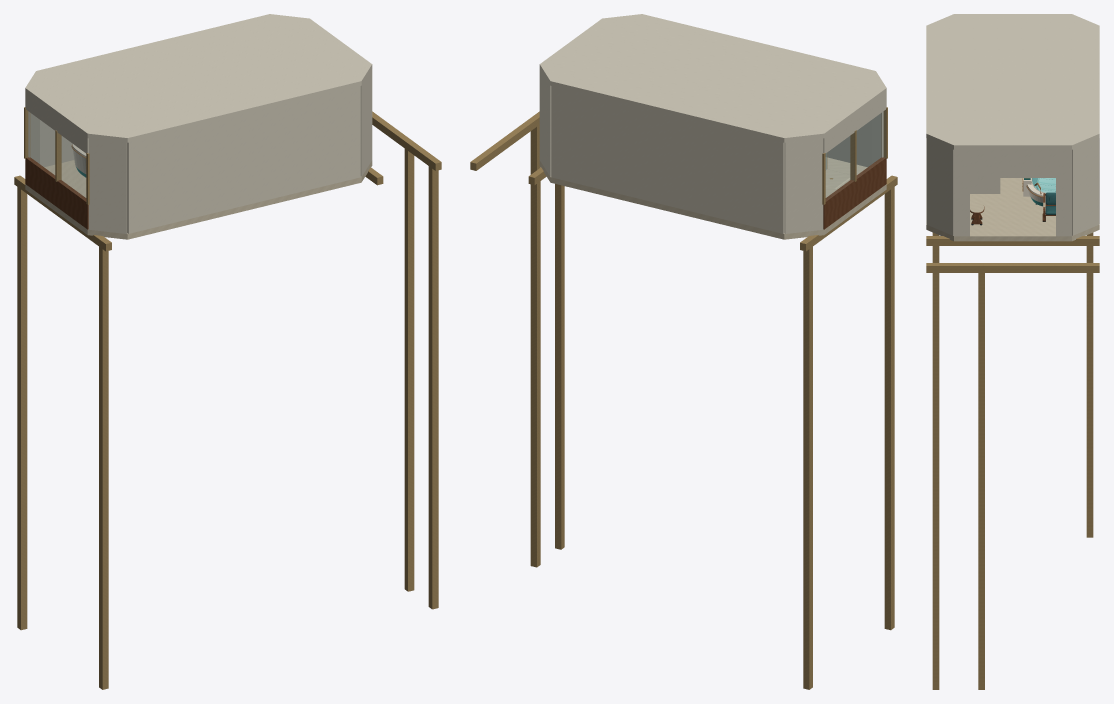
The model's file is D04_STARBOARD_CENTRAL_HOME_974_r001.glb.
3 views of the same model, side by side, from view 1: azimuth 30°, elevation 25°; view 2: azimuth 150°, elevation 25°; view 3: azimuth 270°, elevation 25° (orthographic). The views are drawn at different scales.
Visible parts, largest first — view 1: SC974_D04H970_Roof, SC974_D04H970_Shell_7, SC974_SF_D04H964_Pier_13, SC974_SF_D04H964_Pier_16, SC974_SF_D04H964_Pier_14, SC974_SF_D04H964_Pier_15, SC974_D04H970_Shell_6, SC974_D04H970_Floor, SC974_D04H970_GardenGlass, SC974_D04H970_GardenDado, SC974_D04H970_Shell_0, SC974_D04H970_GardenHead (+2 smaller); view 2: SC974_D04H970_Roof, SC974_D04H970_Shell_3, SC974_SF_D04H964_Pier_15, SC974_SF_D04H964_Pier_14, SC974_SF_D04H964_Pier_16, SC974_SF_D04H964_Pier_13, SC974_D04H970_Shell_4, SC974_D04H970_Floor, SC974_D04H970_GardenGlass, SC974_D04H970_GardenDado, SC974_D04H970_Shell_2, SC974_D04H970_GardenHead (+2 smaller); view 3: SC974_D04H970_Roof, SC974_D04H970_Floor, SC974_SF_D04H964_Pier_13, SC974_SF_D04H964_Pier_14, SC974_D04H970_EntryHeader, SC974_D04H970_Shell_0, SC974_D04H970_Shell_2, SC974_SF_D04H964_Pier_16, SC974_SF_D04H964_ClearSupportLong, SC974_D04H970_EntryWall_0, SC974_D04H970_EntryWall_1, SC974_SF_D04H964_Long_-41.650000000000006 (+2 smaller).
Part boxes in pixels (box(x1,y1,x2,y2)): SC974_D04H970_Roof: box(25, 14, 372, 142); SC974_D04H970_Shell_7: box(127, 86, 360, 233); SC974_SF_D04H964_Pier_13: box(428, 157, 438, 609); SC974_SF_D04H964_Pier_16: box(17, 178, 27, 630); SC974_SF_D04H964_Pier_14: box(404, 139, 414, 591); SC974_SF_D04H964_Pier_15: box(99, 237, 108, 689); SC974_D04H970_Shell_6: box(88, 138, 127, 233); SC974_D04H970_Floor: box(25, 160, 372, 239); SC974_D04H970_GardenGlass: box(27, 113, 85, 197); SC974_D04H970_GardenDado: box(25, 157, 88, 229); SC974_D04H970_Shell_0: box(360, 69, 371, 176); SC974_D04H970_GardenHead: box(25, 93, 88, 153); SC974_D04H970_Roof: box(539, 14, 886, 142); SC974_D04H970_Shell_3: box(551, 86, 784, 233); SC974_SF_D04H964_Pier_15: box(884, 178, 894, 630); SC974_SF_D04H964_Pier_14: box(530, 115, 540, 567); SC974_SF_D04H964_Pier_16: box(803, 237, 812, 689); SC974_SF_D04H964_Pier_13: box(555, 184, 564, 549); SC974_D04H970_Shell_4: box(784, 138, 823, 233); SC974_D04H970_Floor: box(539, 157, 886, 239); SC974_D04H970_GardenGlass: box(826, 113, 881, 199); SC974_D04H970_GardenDado: box(823, 157, 886, 229); SC974_D04H970_Shell_2: box(540, 69, 551, 176); SC974_D04H970_GardenHead: box(823, 93, 886, 153); SC974_D04H970_Roof: box(926, 14, 1099, 149); SC974_D04H970_Floor: box(926, 178, 1099, 241); SC974_SF_D04H964_Pier_13: box(932, 263, 939, 689); SC974_SF_D04H964_Pier_14: box(978, 263, 984, 689); SC974_D04H970_EntryHeader: box(970, 149, 1055, 177); SC974_D04H970_Shell_0: box(927, 138, 953, 235); SC974_D04H970_Shell_2: box(1072, 138, 1098, 235); SC974_SF_D04H964_Pier_16: box(1086, 232, 1093, 537); SC974_SF_D04H964_ClearSupportLong: box(926, 263, 1099, 272); SC974_D04H970_EntryWall_0: box(954, 149, 969, 236); SC974_D04H970_EntryWall_1: box(1056, 149, 1071, 236); SC974_SF_D04H964_Long_-41.650000000000006: box(926, 236, 1099, 245).
Size of the model in its own units: 15.42 by 23.78 by 7.2.
51 materials, 21 textured.
